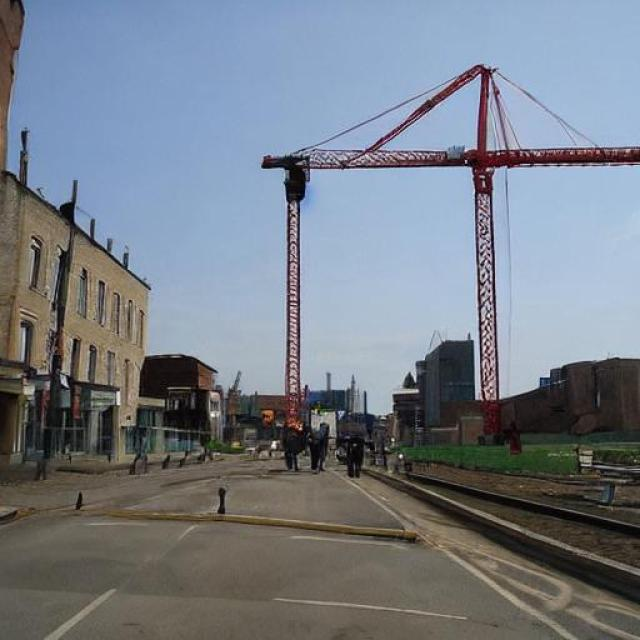crane: (218, 0, 332, 318)
